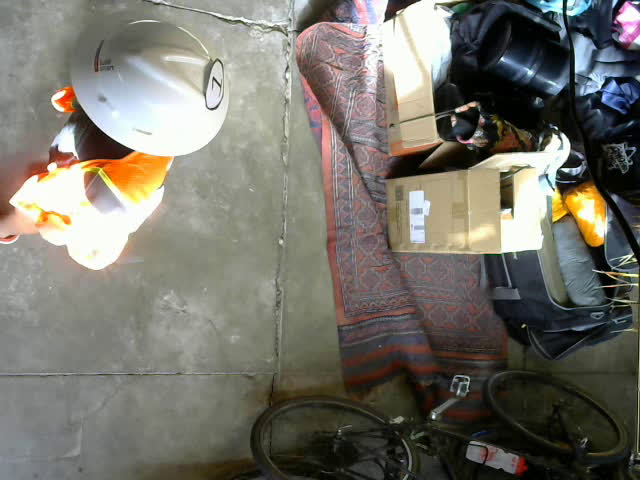one: (205, 60, 224, 109)
